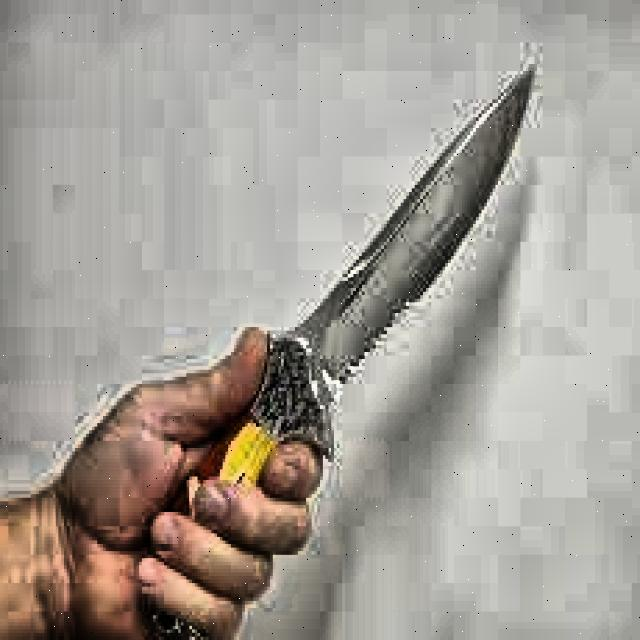knife: (150, 64, 532, 640)
